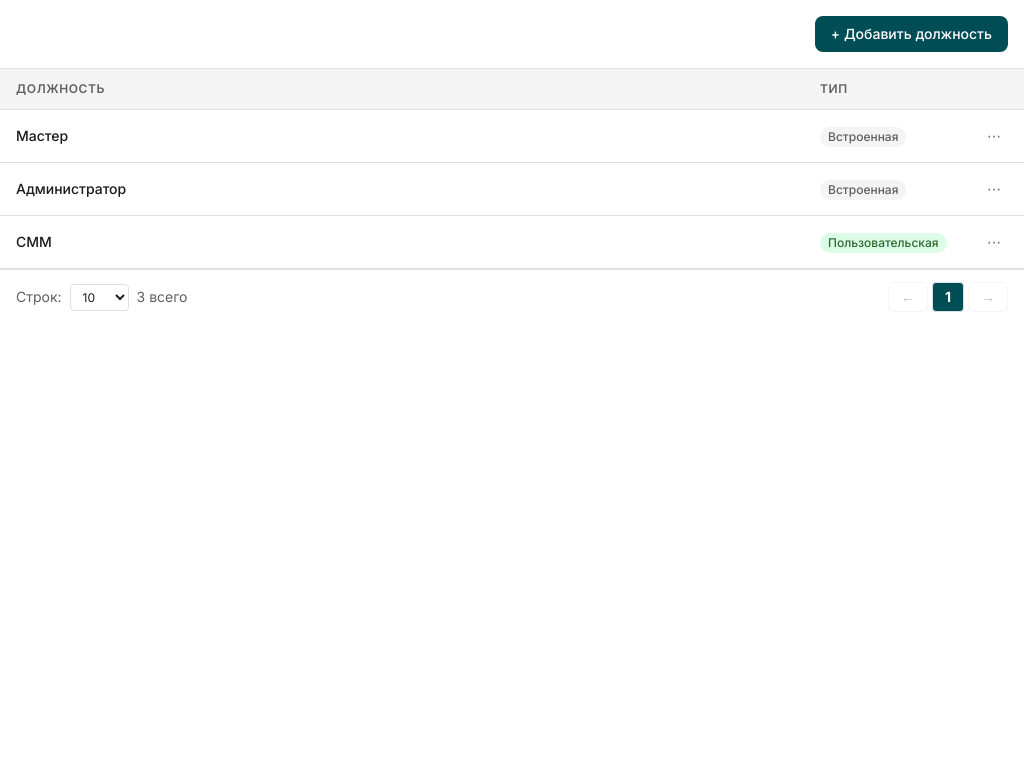
Scenario: PositionsTable — rename (title freely editable, D4) › blocks an empty rename client-side (required field) — no PUT
Expected: the text "Мастер" is shown, left=16, top=127, right=68, bottom=144
Click the row with test id "position-row-master" at {"x": 512, "y": 136}, box left=0, top=110, right=1023, bottom=162
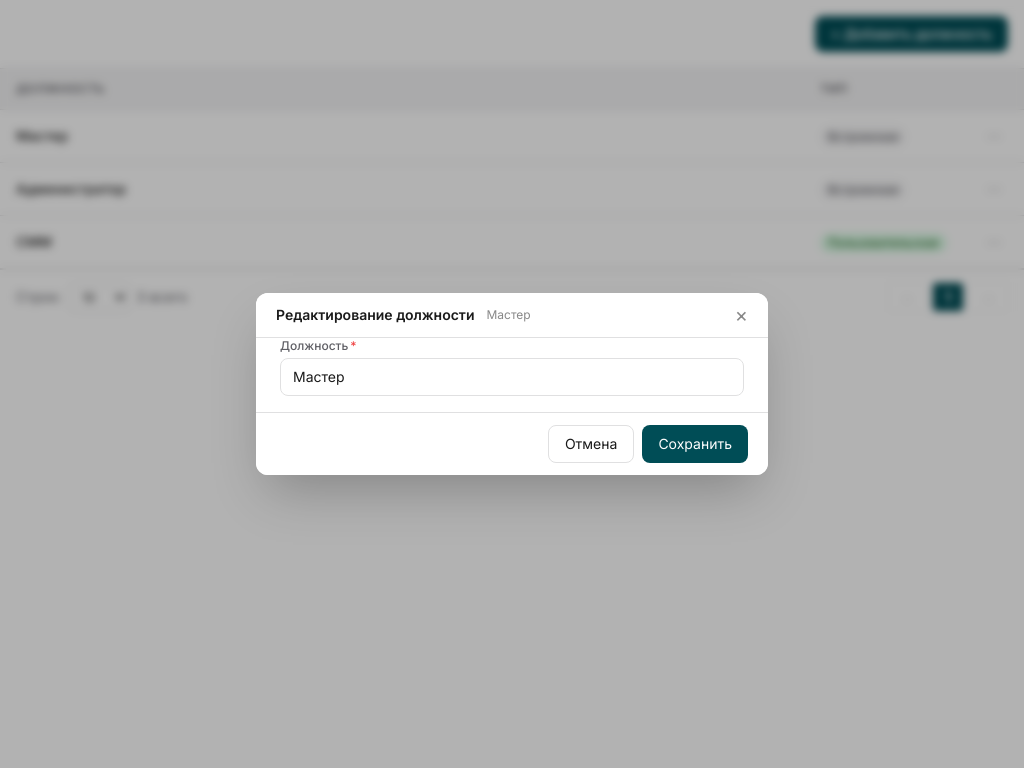
Clear the field labelled "Должность" at {"x": 512, "y": 377}, box left=280, top=358, right=744, bottom=396
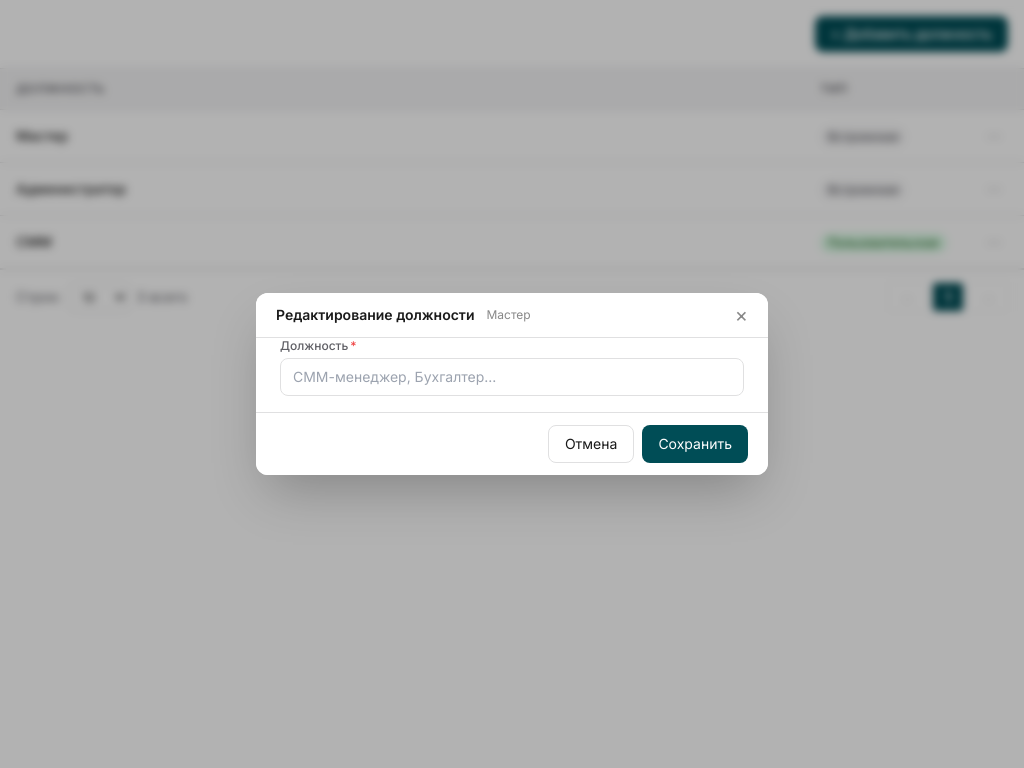
Click the button "Сохранить" at {"x": 695, "y": 444}, box left=642, top=425, right=748, bottom=463
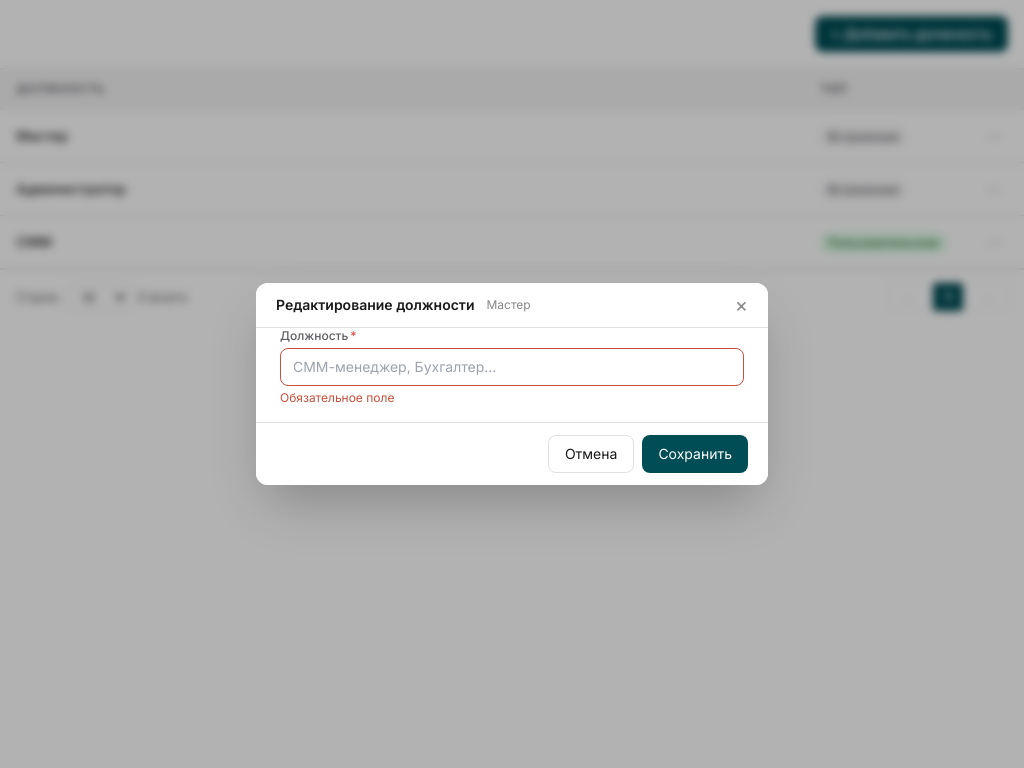
Now the text "Обязательное поле" is shown, box left=280, top=390, right=394, bottom=405
